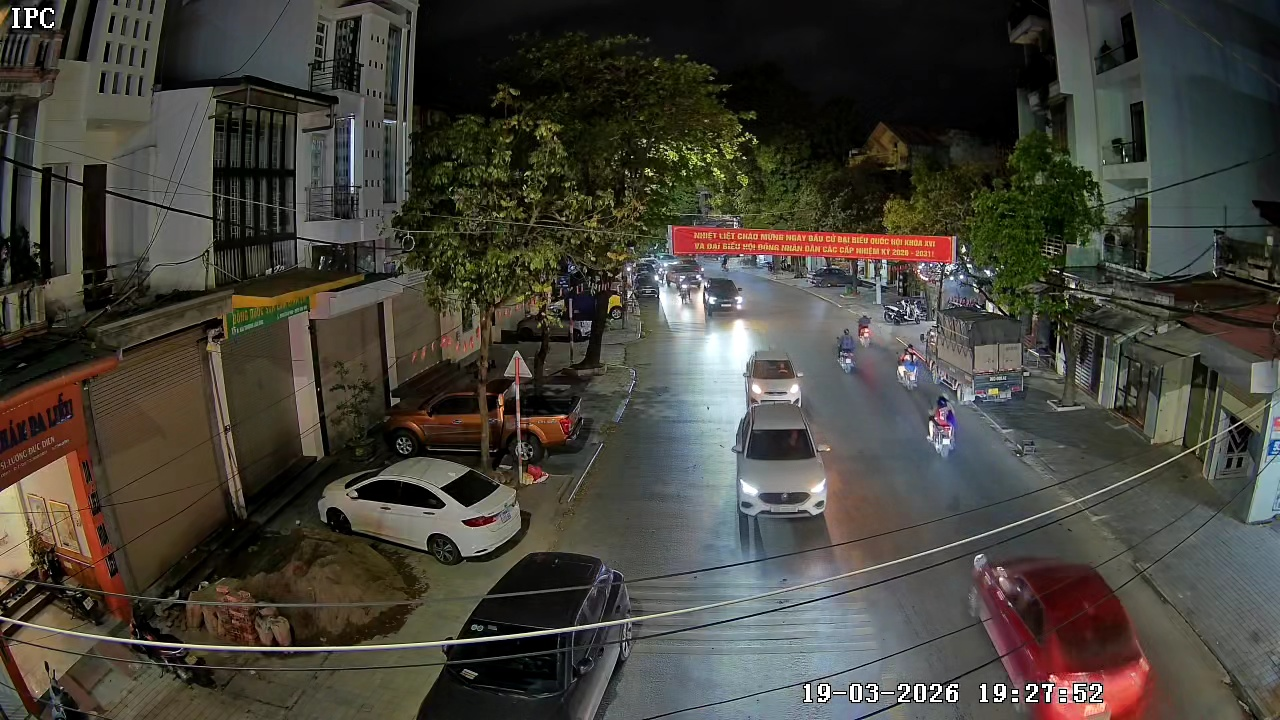car: (413, 547, 635, 719), (968, 556, 1151, 719), (318, 455, 532, 561), (731, 401, 831, 528), (744, 347, 807, 409), (703, 274, 744, 316)
motorbike: (926, 396, 959, 463), (895, 340, 922, 391), (835, 326, 857, 373)
